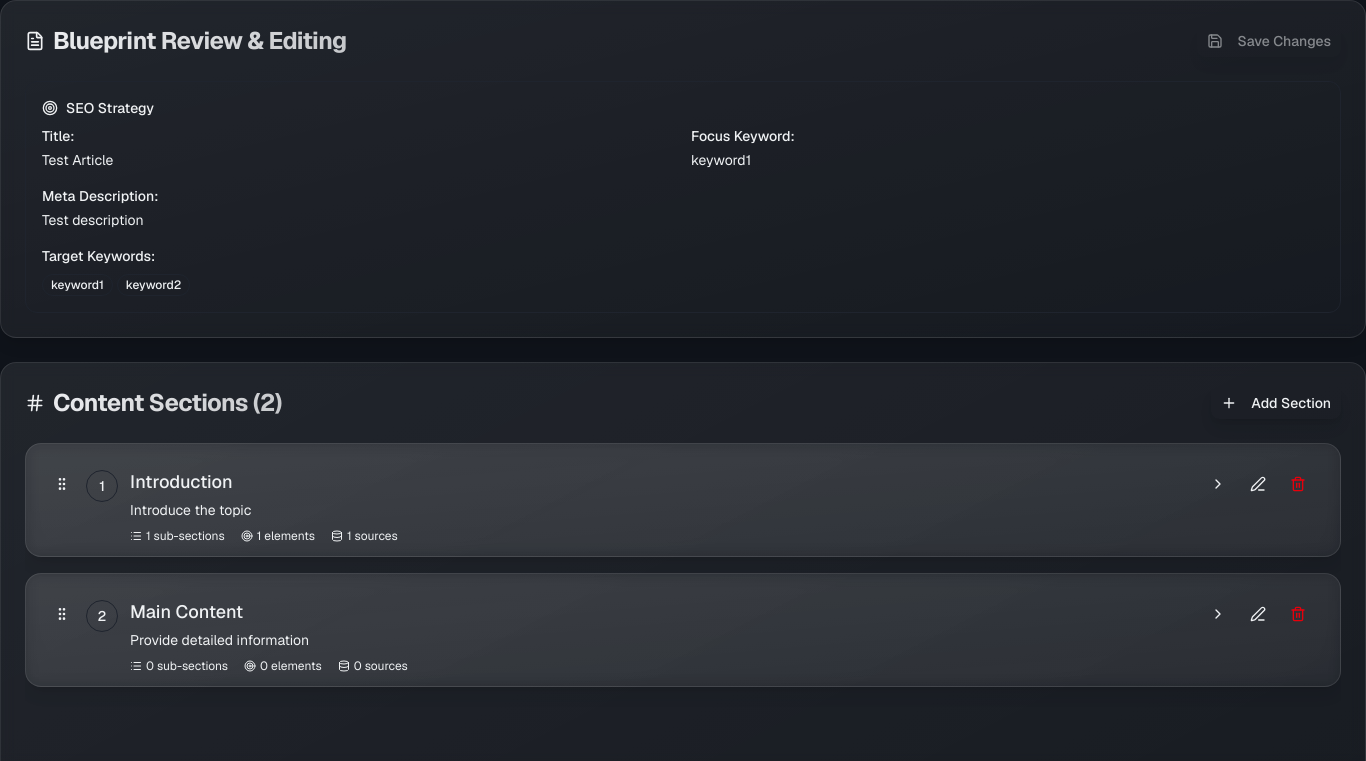
BlueprintReview › resets changes when reset button is clicked
The image size is (1366, 761).
Add a section to make changes
Click the button "Add Section". click: x=1276, y=403
box: [1211,387,1341,419]
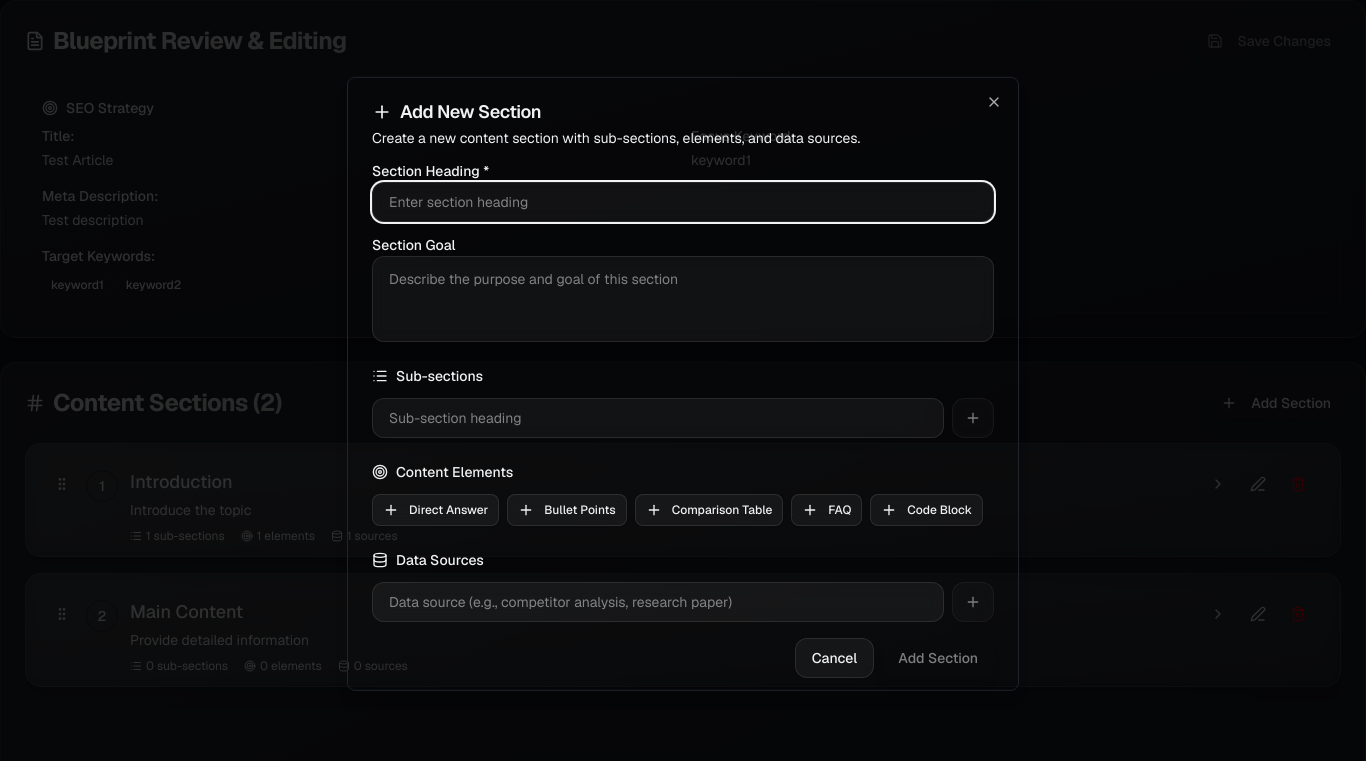
Type "New Section" into the field labelled "Section Heading *". click: x=683, y=202
box: [372,182,994,222]
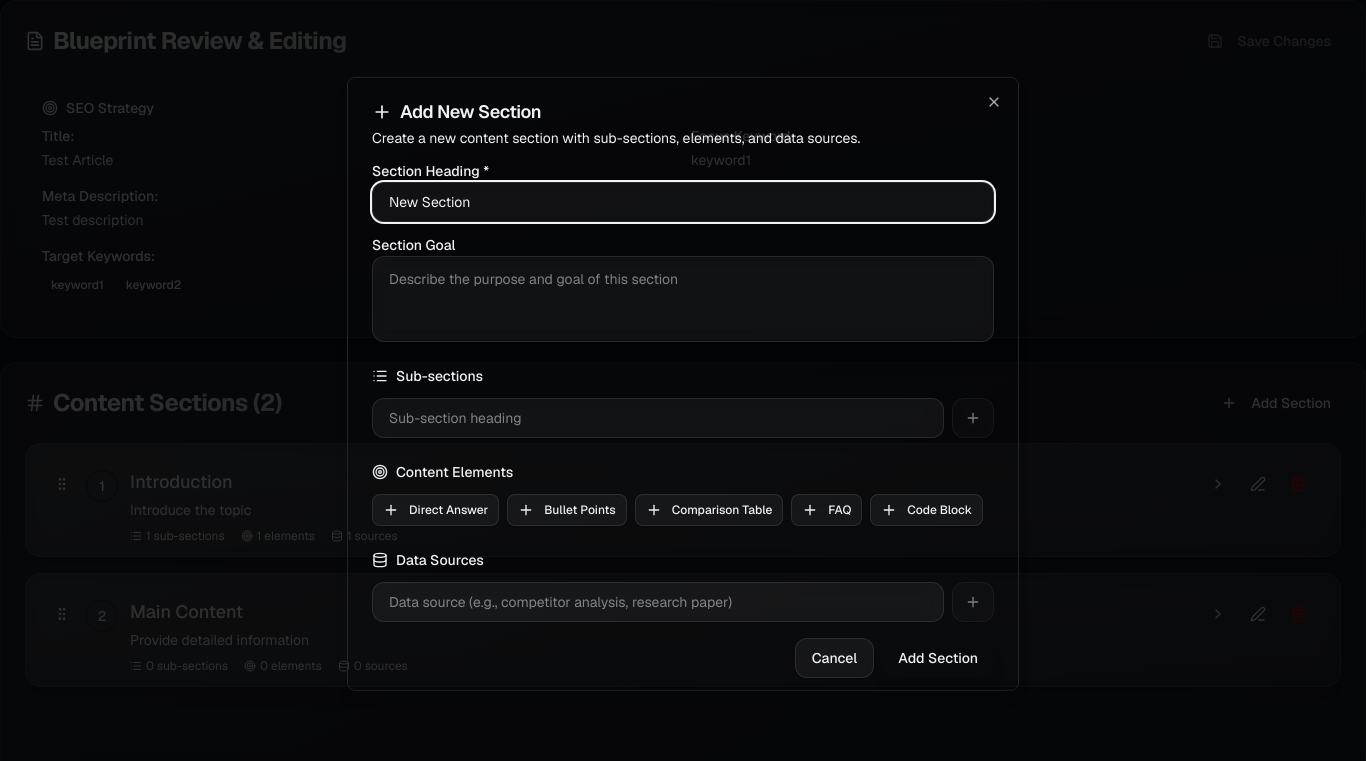
Click the button "Add Section". click: x=938, y=658
box: [882,638,994,678]
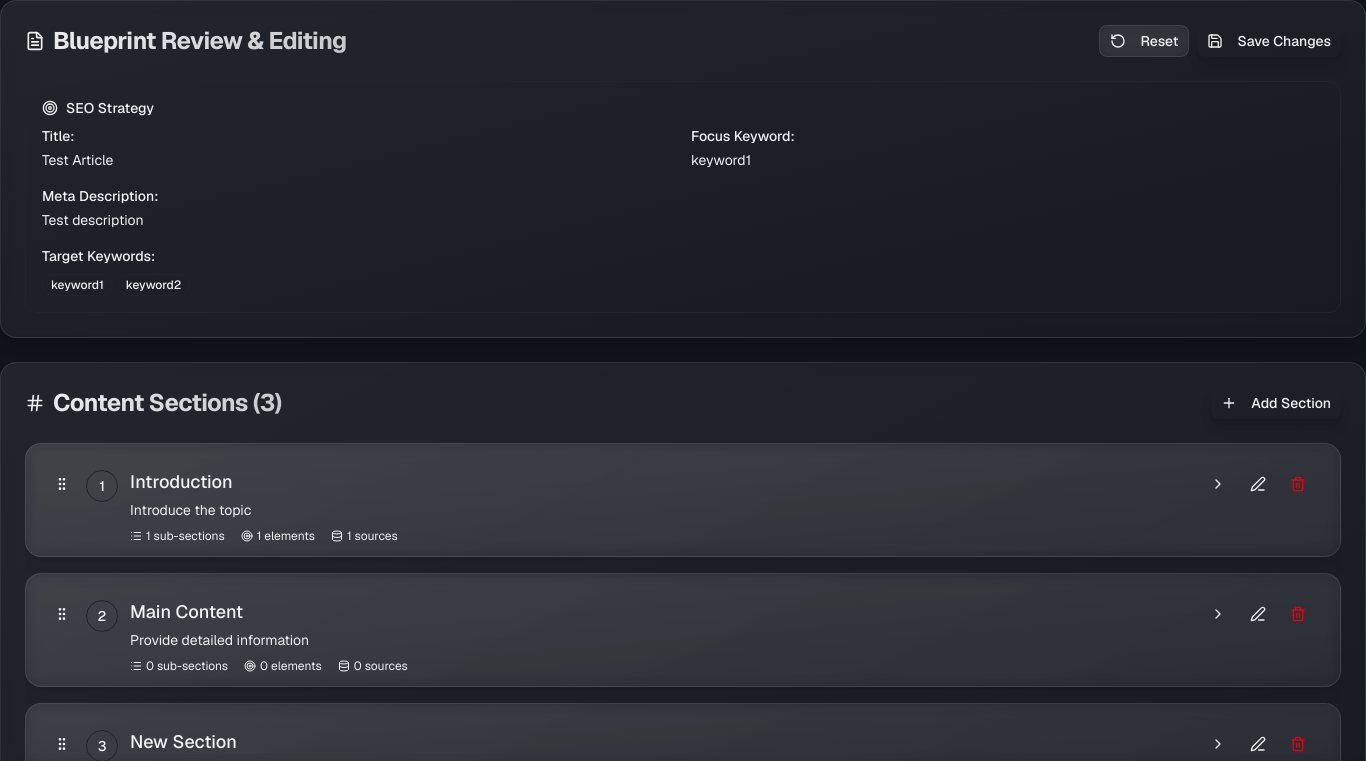
Reset changes
Click the button "Reset". click: x=1144, y=41
box: [1099,25,1189,57]
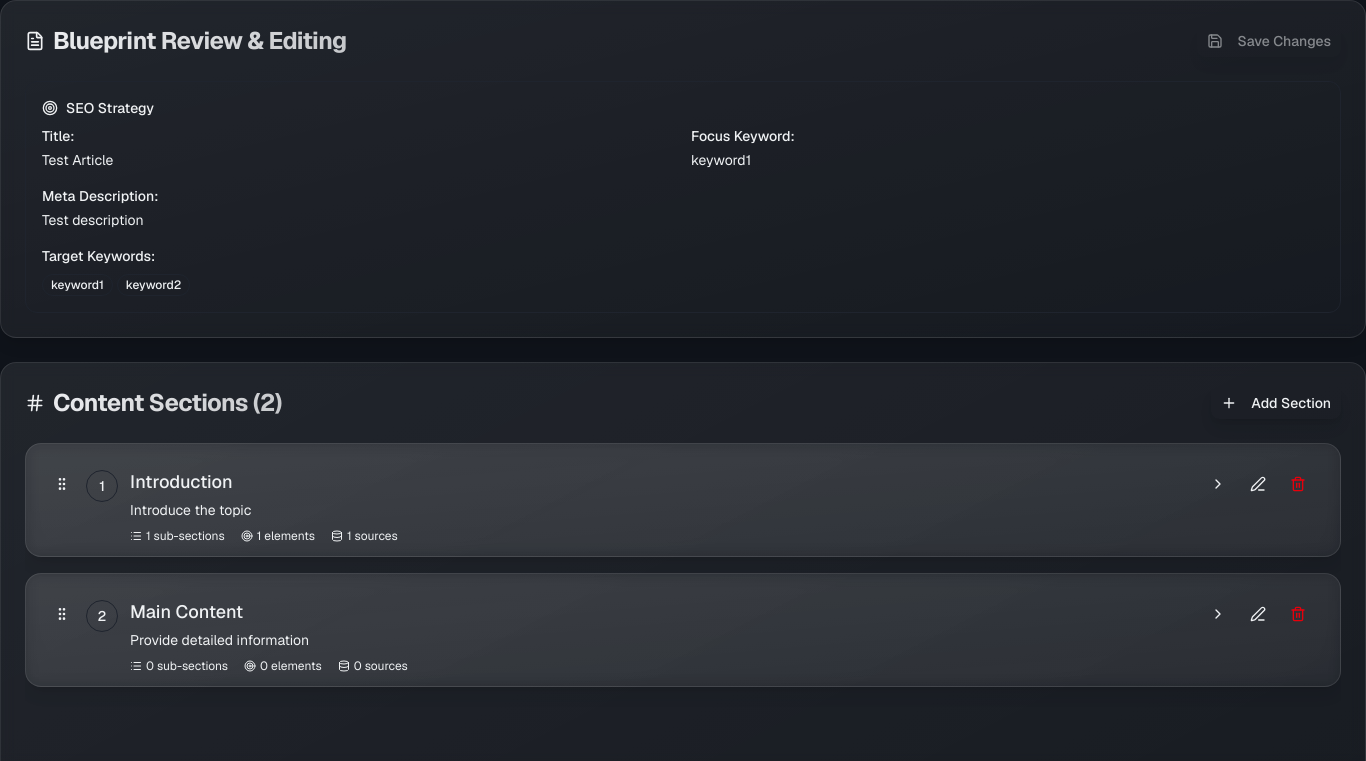
Expected: the button "Save Changes" is disabled, [1197,25,1341,57]
